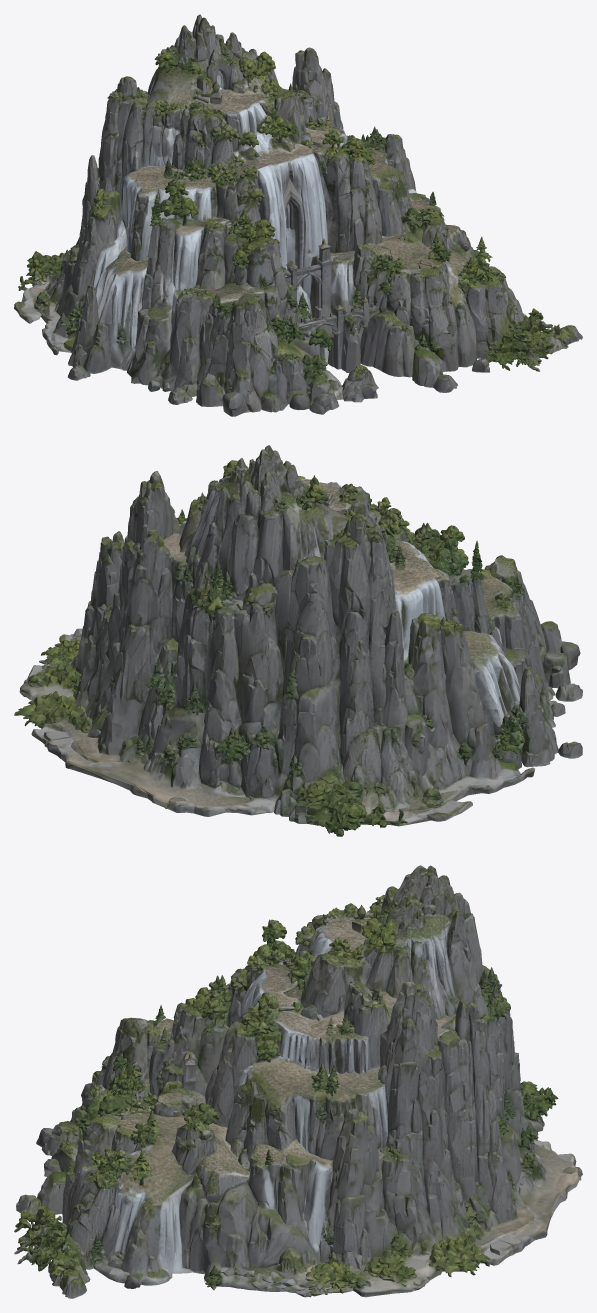
The model's file is veilfall_a.glb.
3 renders of one model, top to bottom at view 1: azimuth 30°, elevation 25°; view 2: azimuth 150°, elevation 25°; view 3: azimuth 270°, elevation 25°, orthographic. The views are drawn at different scales.
Size of the model in its own units: 1.9 by 1.13 by 1.89.
Materials: 1 (1 with a texture image).
